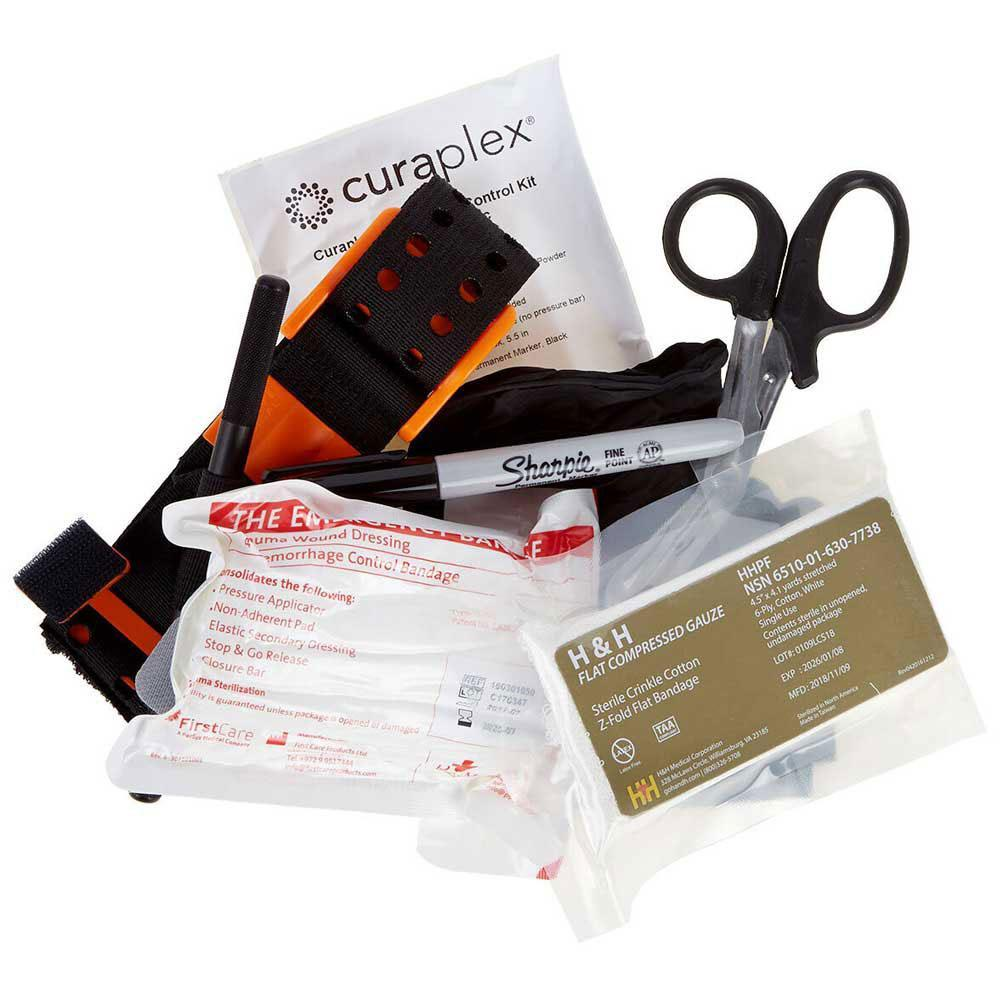scissors: (593, 166, 907, 607)
